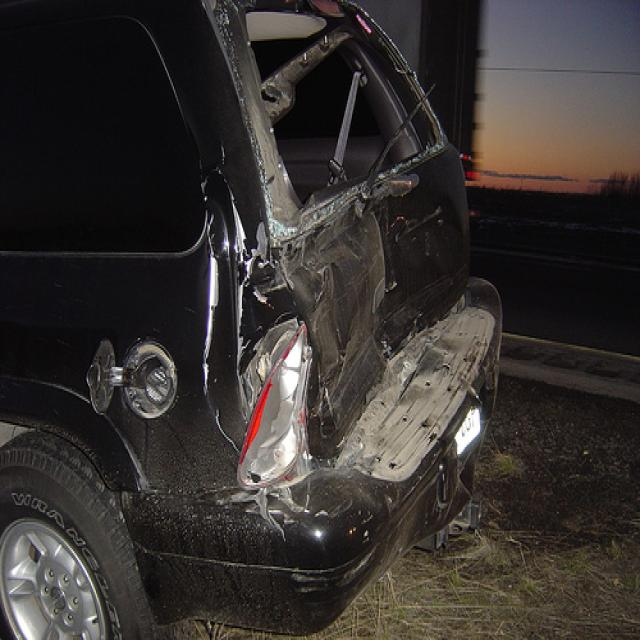car: (1, 1, 505, 639)
